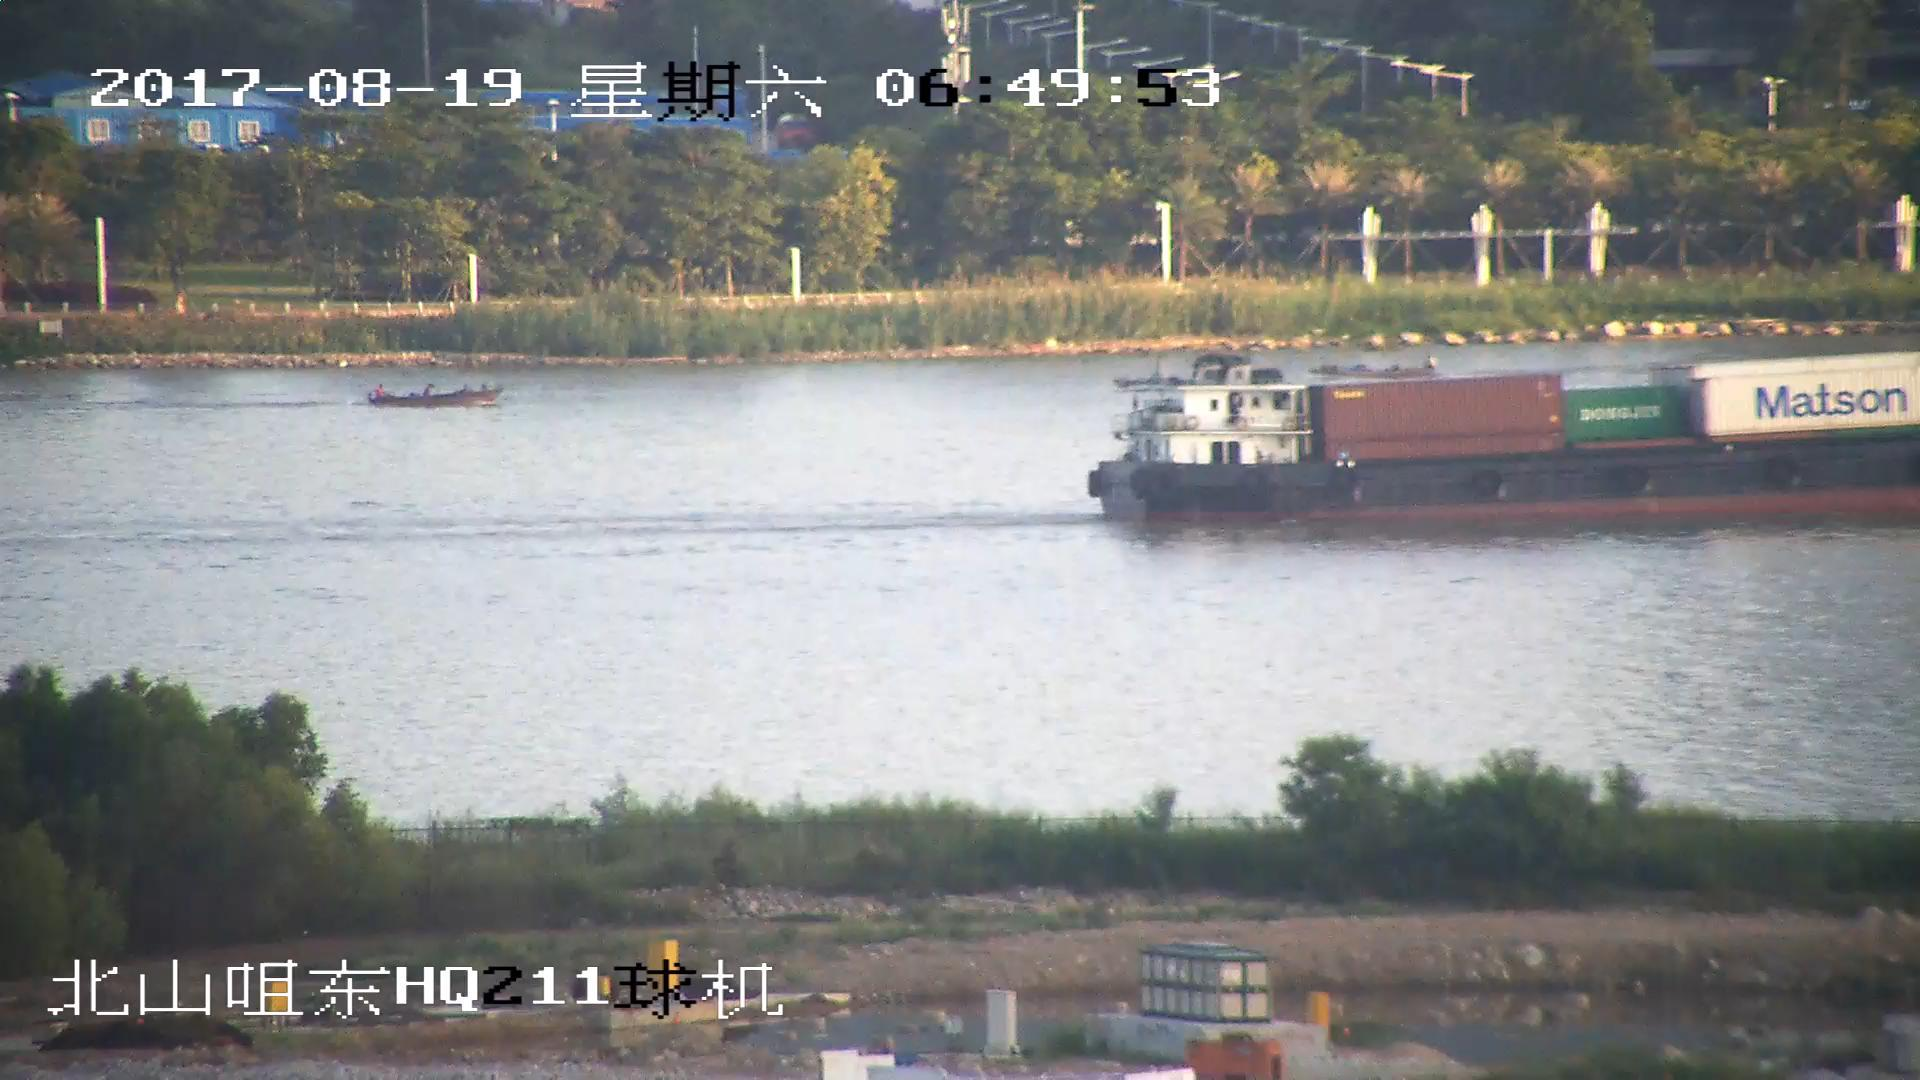Ship: (1087, 353, 1920, 531), (367, 378, 504, 410)
